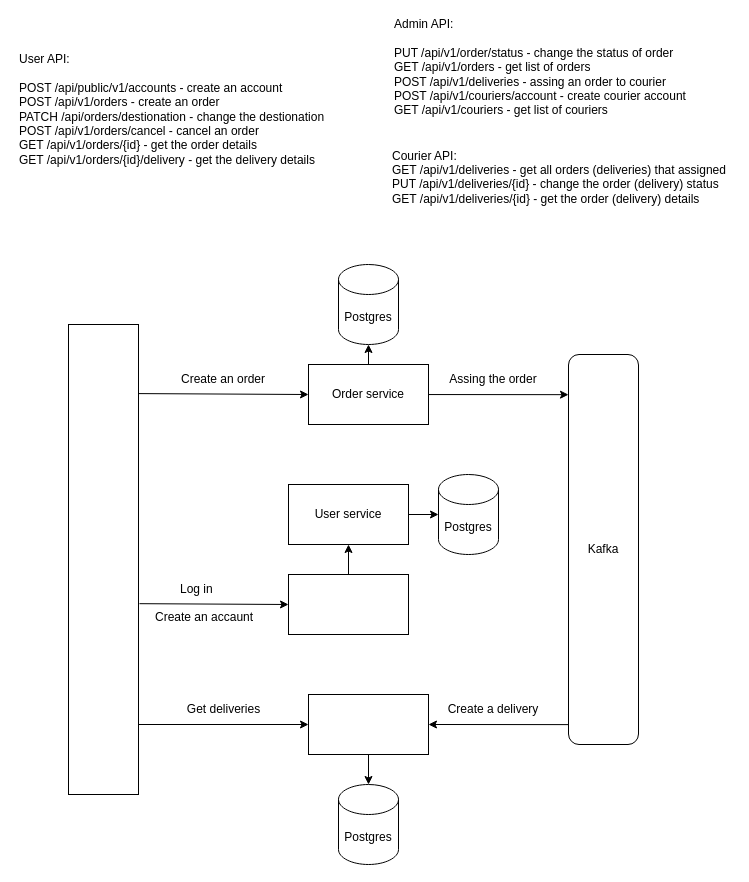
The diagram is 749 pixels wide and 882 high, and some of its shapes have lost their labels. Here are the shapes that lost their labels. From the top down, the box of each, then its label:
(68, 324, 138, 794): API GW
(288, 574, 408, 634): Auth service
(308, 694, 428, 754): Delivery service
